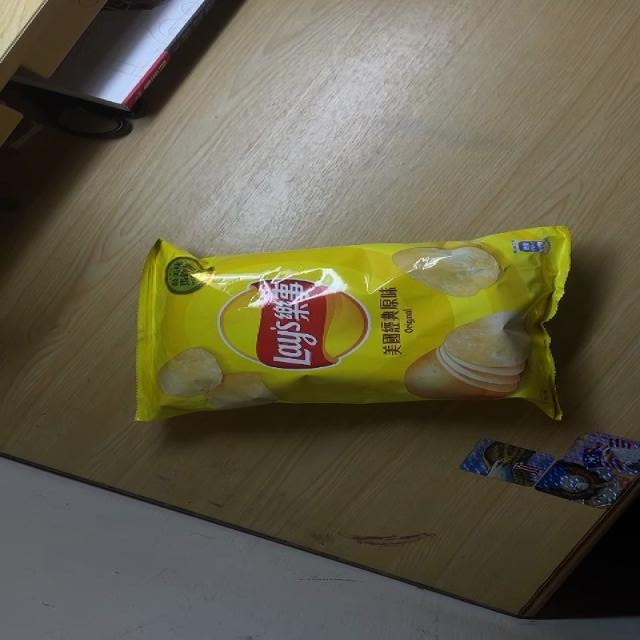Lay-s-original: (132, 223, 567, 424)
